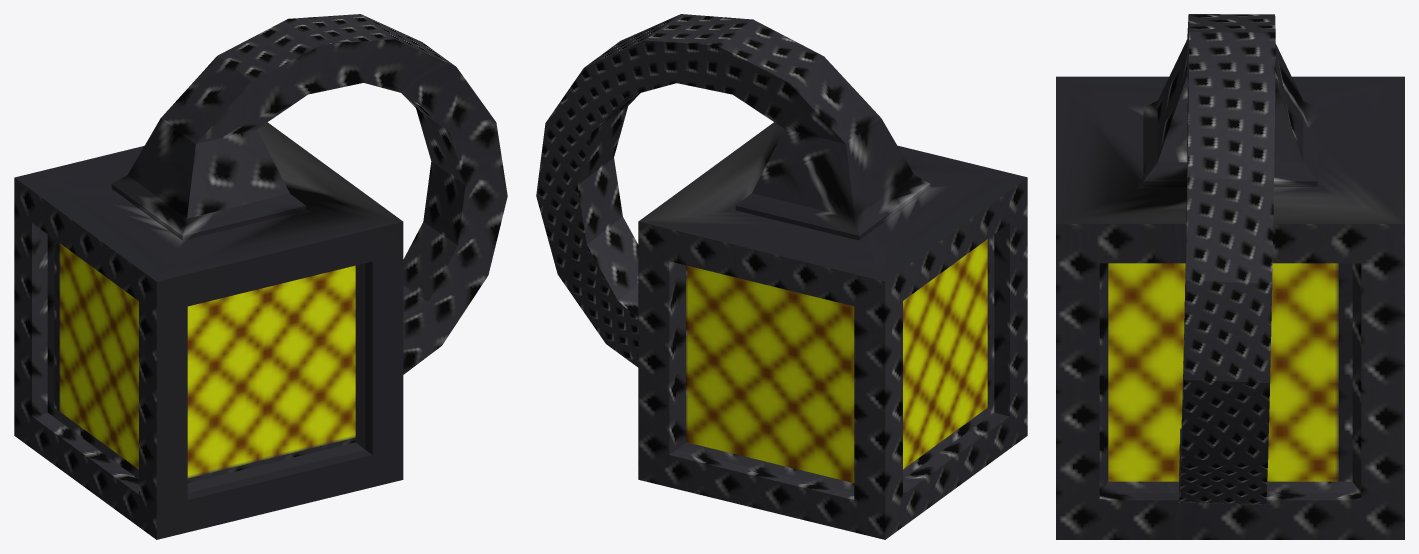
The model's file is SECRET.obj.
3 renders of one model, left to right at view 1: azimuth 30°, elevation 25°; view 2: azimuth 150°, elevation 25°; view 3: azimuth 270°, elevation 25°, orthographic. The views are drawn at different scales.
Parts seen in each view (by area): view 1: Cube; view 2: Cube; view 3: Cube.
Boxes of the visible parts, x1,y1,x2,y2 form: Cube: [14, 14, 507, 539]; Cube: [536, 14, 1027, 539]; Cube: [1056, 14, 1404, 539].
Bounding box in the file's own units: 3.27 × 3.11 × 2.
